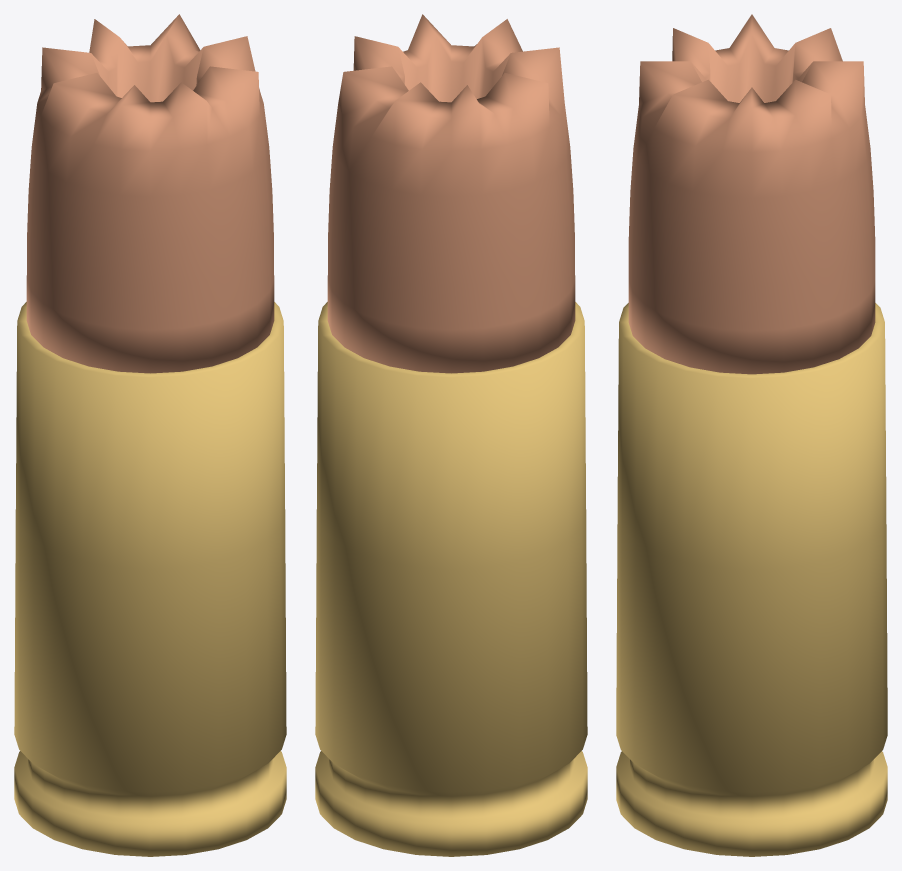
3 renders of one model, left to right at view 1: azimuth 30°, elevation 25°; view 2: azimuth 150°, elevation 25°; view 3: azimuth 270°, elevation 25°, orthographic.
Visible parts, largest first — view 1: vaina, bala_flor; view 2: vaina, bala_flor; view 3: vaina, bala_flor.
Boxes of the visible parts, left/top/right/bottom form: vaina: left=14, top=302, right=286, bottom=856; bala_flor: left=26, top=14, right=274, bottom=373; vaina: left=315, top=302, right=587, bottom=856; bala_flor: left=327, top=14, right=575, bottom=373; vaina: left=616, top=303, right=887, bottom=856; bala_flor: left=628, top=14, right=875, bottom=374.
Bounding box in the file's own units: 0.0099 × 0.0297 × 0.0099.
